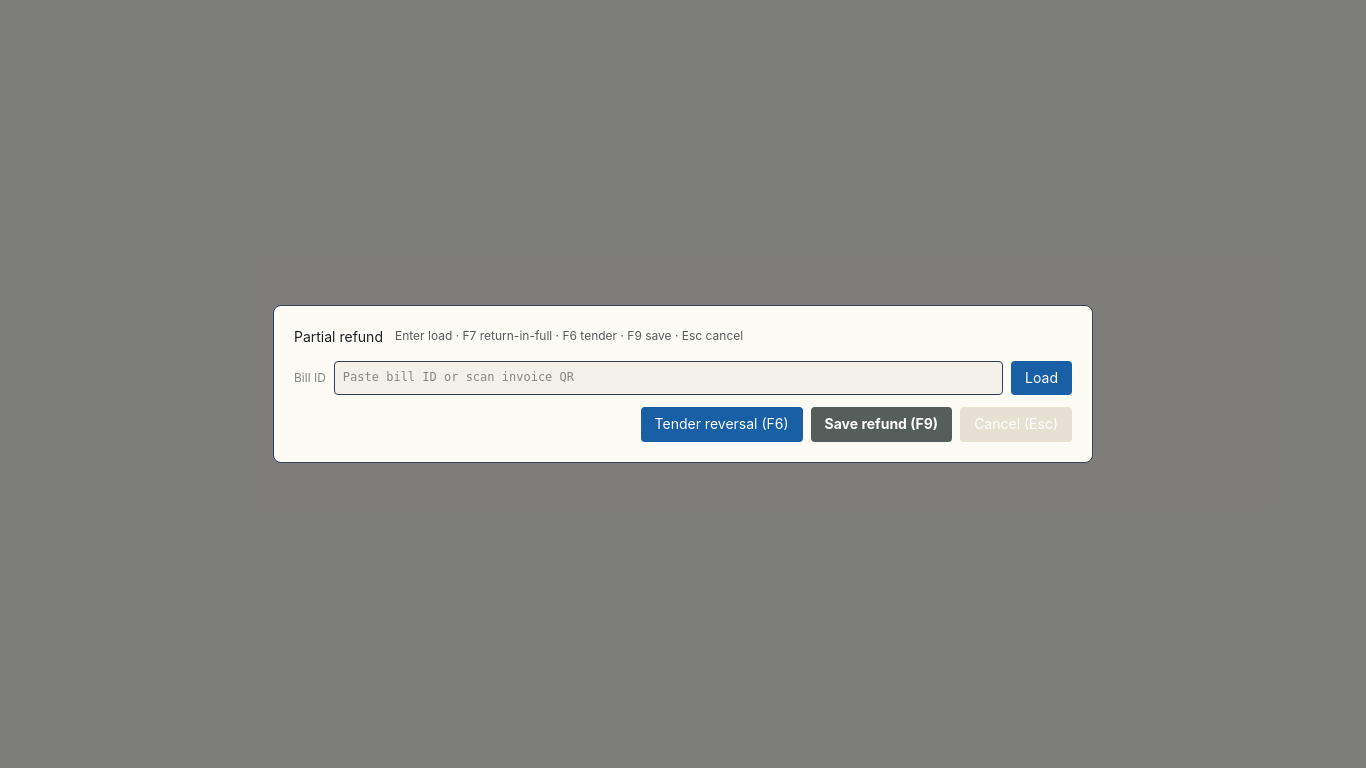
Test: PartialReturnPicker · A8 step 7 › F7 on focused row sets return qty = refundable
The image size is (1366, 768).
Type "bill_b1" into the field with test id "ret-picker-bill-id". click: (668,378)
box: [334,361,1003,395]
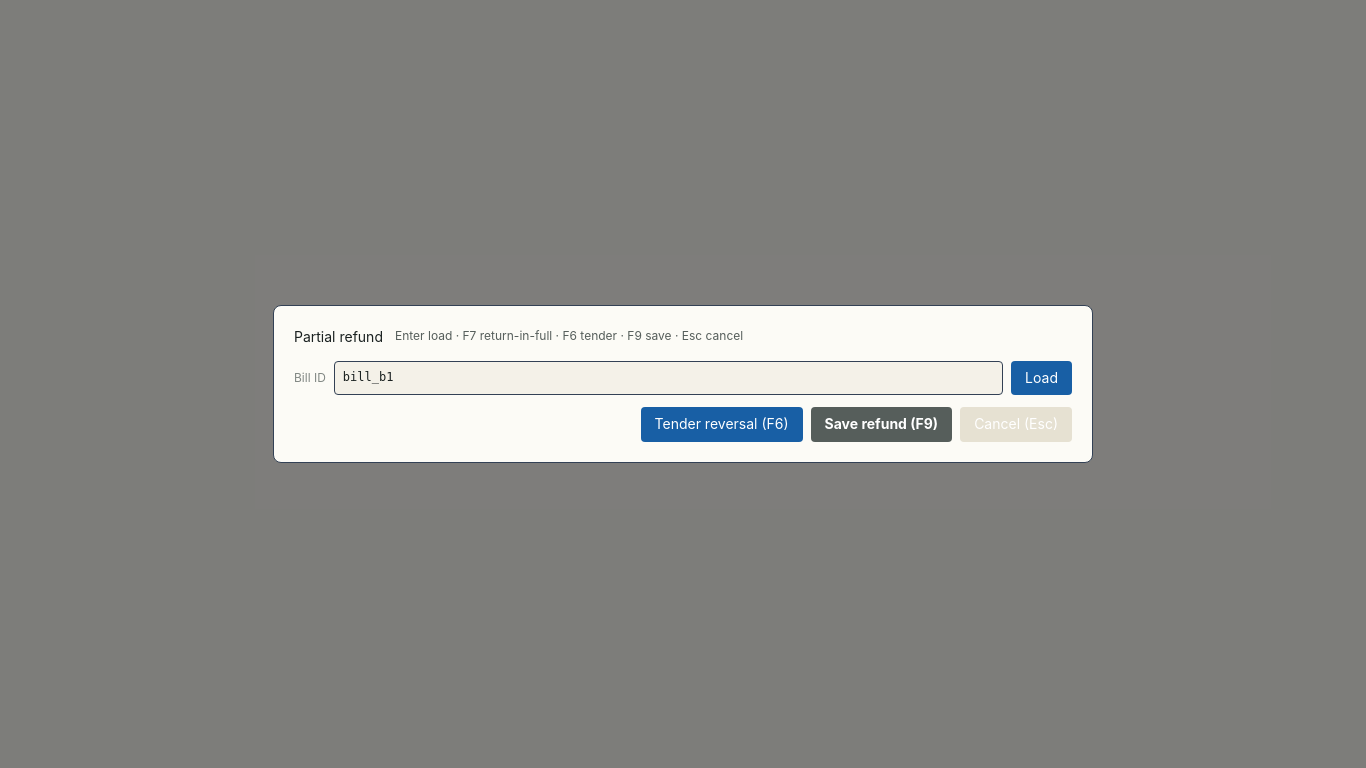
Press Enter in the field with test id "ret-picker-bill-id", box [334,361,1003,395]
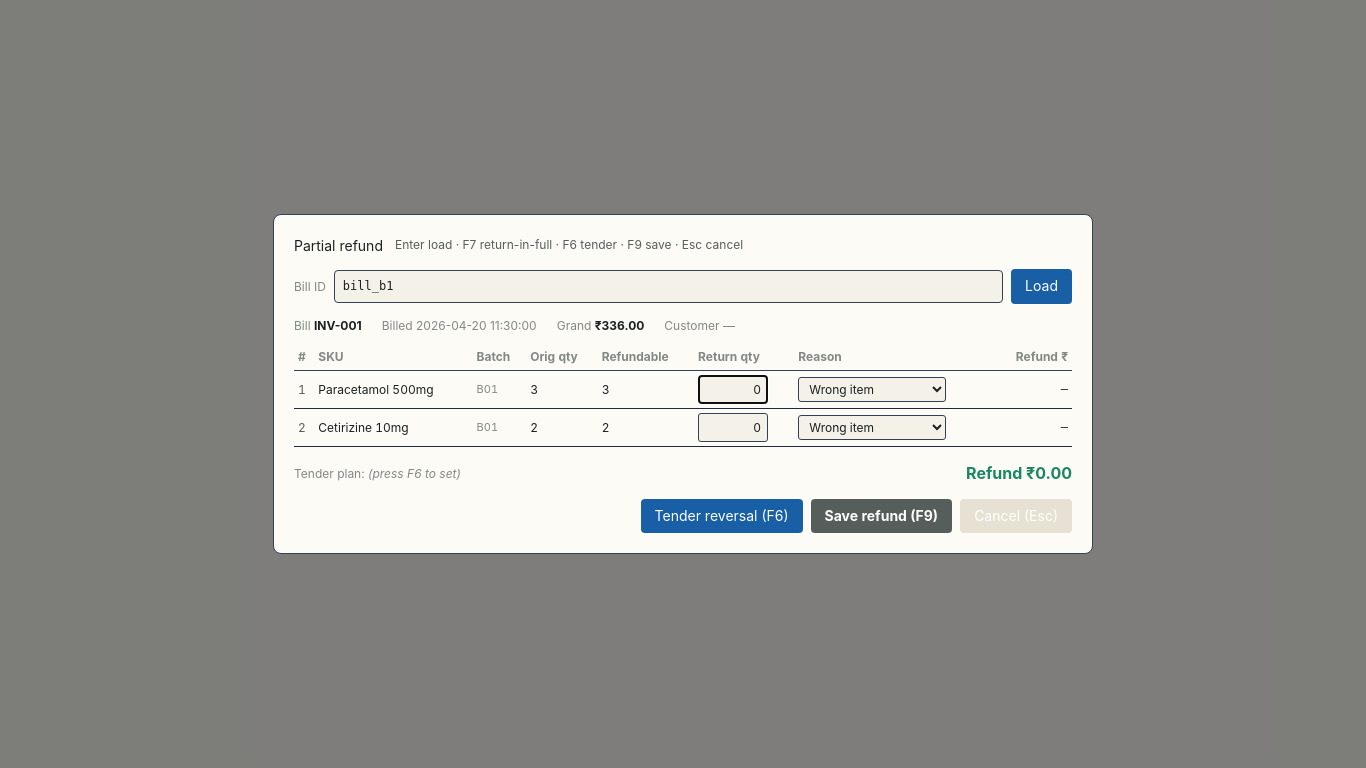
Check: the table with test id "ret-picker-table" is shown, box [294,343,1072,447]
Note: Focus first qty cell, then dispatch F7 on window.
Press F7
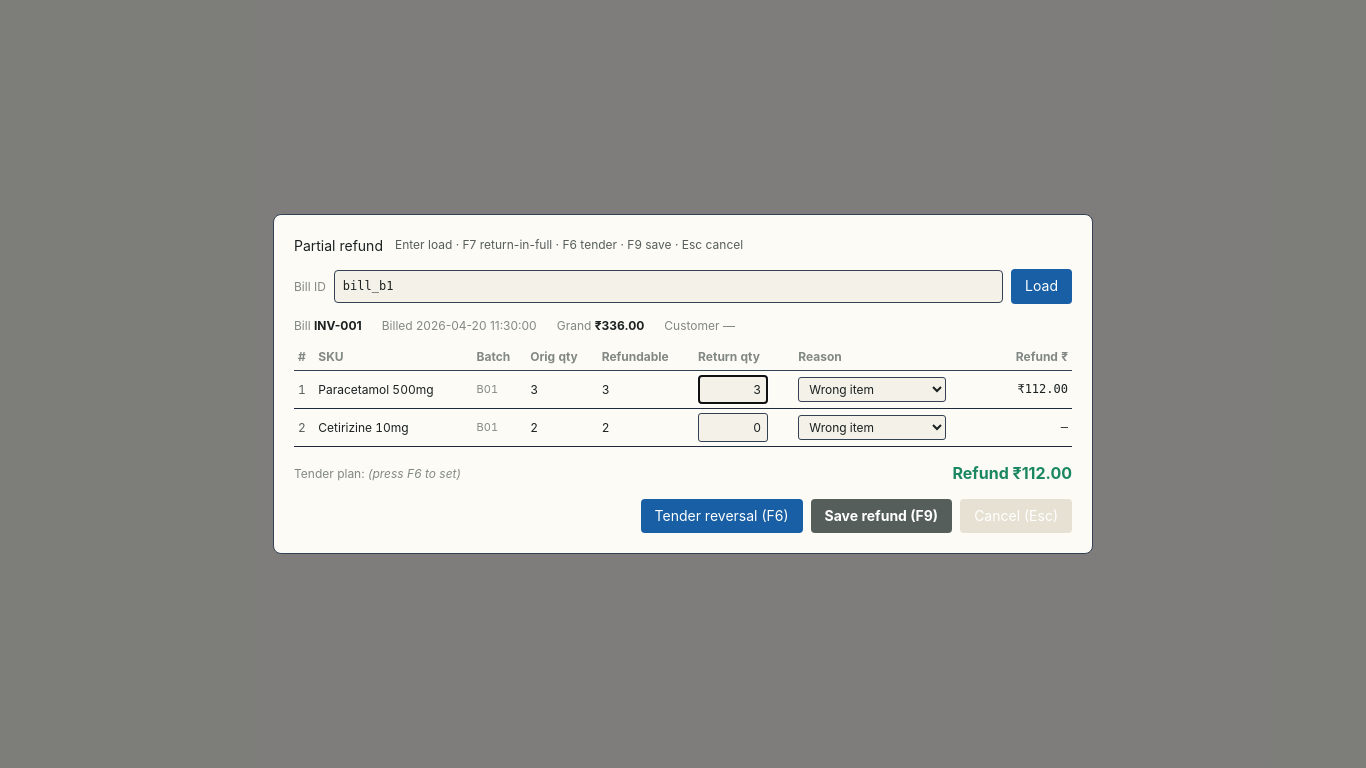
Check: the field with test id "ret-picker-qty-0" holds "3", box [698,375,768,404]
